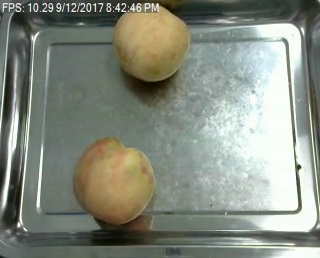Peach: (72, 137, 155, 225), (113, 3, 189, 81)
